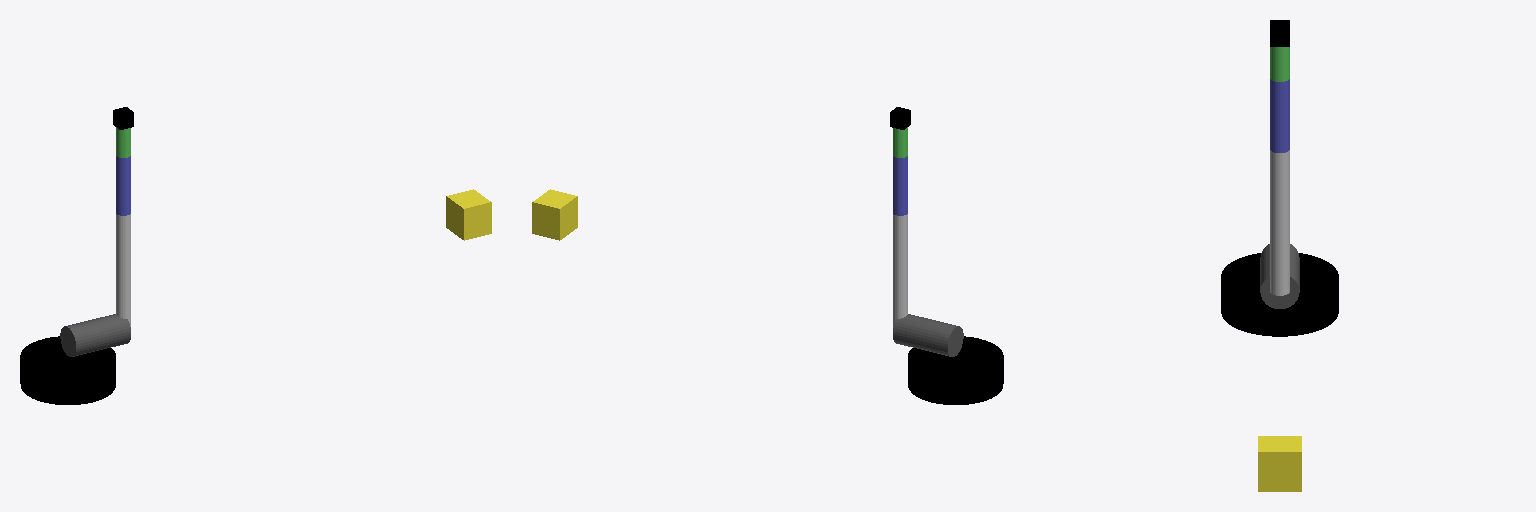
robot.urdf — bender:
<robot name="bender">

    <material name="black">
        <color rgba="0 0 0 1"/>
    </material>

    <material name="gray">
        <color rgba="0.4 0.4 0.4 1"/>
    </material>

    <material name="light gray">
        <color rgba="0.8 0.8 0.8 1"/>
    </material>

    <material name="light green">
        <color rgba="0.4 0.8 0.4 1"/>
    </material>

    <material name="light blue">
        <color rgba="0.4 0.4 0.8 1"/>
    </material>

    <material name="light red">
        <color rgba="0.8 0.4 0.4 1"/>
    </material>

    <link name="world"/>
    <link name="base">
        <visual>
            <geometry>
                <cylinder radius="0.3" length="0.2"/>
            </geometry>
            <material name="black"/>
        </visual>
    </link>

    <link name="link_1">
        <visual>
            <geometry>
                <cylinder radius="0.1" length="0.4"/>
            </geometry>
            <origin xyz="0.0 0 0.2" rpy="0 0 0" />
            <material name="gray"/>
        </visual>
    </link>

    <link name="link_2">
        <visual>
            <geometry>
                <cylinder radius="0.05" length="0.8"/>
            </geometry>
            <origin xyz="0 0 0.4" rpy="0 0 0" />
            <material name="light gray"/>
        </visual>
        <inertial>
            <origin xyz="0 0 0" rpy="0 0 0"/>
            <mass value="5"/>
            <inertia ixx="1"  ixy="0"  ixz="0" iyy="1" iyz="0" izz="0" />
        </inertial>
    </link>

    <link name="link_3"/>

    <link name="link_4">
        <visual>
            <geometry>
                <cylinder radius="0.05" length="0.4"/>
            </geometry>
            <origin xyz="0 0 0.2" rpy="0 0 0" />
            <material name="light blue"/>
        </visual>
    </link>

    <link name="link_5">
        <visual>
            <geometry>
                <cylinder radius="0.05" length="0.2"/>
            </geometry>
            <origin xyz="0 0 0.1" rpy="0 0 0" />
            <material name="light green"/>
        </visual>
    </link>

    <link name="link_6"/>

    <link name="link_eef">
        <visual>
            <geometry>
                <box size="0.1 0.1 0.1"/>
            </geometry>
            <origin xyz="0 0 0.05" rpy="0 0 0" />
            <material name="black"/>
        </visual>
        <inertial>
            <origin xyz="0 0 0" rpy="0 0 0"/>
            <mass value="0"/>
            <inertia ixx="0"  ixy="0"  ixz="0" iyy="0" iyz="0" izz="0" />
        </inertial>
    </link>

    <joint name="world_to_base" type="fixed">
        <parent link="world"/>
        <child link="base"/>
        <origin xyz="0 0 0.1" rpy="0 0 0"/>
    </joint>

    <joint name="joint_1" type="revolute">
        <parent link="base"/>
        <child link="link_1"/>
        <origin xyz="0.0 0 0.2" rpy="0 1.57 0"/>
        <limit lower="-3.15" upper="3.15"/>
        <axis xyz="1 0 0"/>
    </joint>

    <joint name="joint_2" type="revolute">
        <parent link="link_1"/>
        <child link="link_2"/>
        <origin xyz="0 0 0.4" rpy="0 -1.57 0"/>
        <limit lower="-3.15" upper="3.15"/>
        <axis xyz="0 1 0"/>
    </joint>

    <joint name="joint_3" type="revolute">
        <parent link="link_2"/>
        <child link="link_3"/>
        <origin xyz="0 0 0.8" rpy="0 0 0"/>
        <limit lower="-3.15" upper="3.15"/>
        <axis xyz="0 1 0"/>
    </joint>

    <joint name="joint_4" type="revolute">
        <parent link="link_3"/>
        <child link="link_4"/>
        <origin xyz="0 0 0" rpy="0 0 0"/>
        <limit lower="-3.15" upper="3.15"/>
        <axis xyz="0 0 1"/>
    </joint>

    <joint name="joint_5" type="revolute">
        <parent link="link_4"/>
        <child link="link_5"/>
        <origin xyz="0 0 0.4" rpy="0 0 0"/>
        <limit lower="-3.15" upper="3.15"/>
        <axis xyz="0 1 0"/>
    </joint>

    <joint name="joint_6" type="revolute">
        <parent link="link_5"/>
        <child link="link_6"/>
        <origin xyz="0 0 0" rpy="0 0 0"/>
        <limit lower="-3.15" upper="3.15"/>
        <axis xyz="0 0 1"/>
    </joint>

    <joint name="joint_eef" type="fixed">
        <parent link="link_6"/>
        <child link="link_eef"/>
        <origin xyz="0 0 0.2" rpy="0 0 0"/>
    </joint>

    <!-- MARKER -->

    <link name="marker_base"/>

    <joint name="world_to_marker_base" type="prismatic">
        <parent link="world"/>
        <child link="marker_base"/>
        <origin xyz="3 0 0.5" rpy="0 -1.5708 0" />
        <limit lower="-1" upper="1" velocity="1"/>
    </joint>

    <link name="marker">
        <visual>
            <geometry>
                <mesh filename="dynamic_tests/meshes2/files/arucocube_black.stl" scale="0.0051"/>
            </geometry>
            <origin xyz="0 0 0.1" rpy="0 0 0" />
            <material name="black"/>
        </visual>
    </link>

    <joint name="base_to_marker" type="fixed">
        <parent link="marker_base"/>
        <child link="marker"/>
        <origin xyz="0 0 0" rpy="0 0 0" />
    </joint>

    <link name="marker_background">
        <visual>
            <geometry>
                <box size="0.22 0.22 0.2"/>
            </geometry>
            <origin xyz="0 0 0.1" rpy="0 0 0" />
        </visual>
    </link>

    <joint name="marker_to_bg" type="fixed">
        <parent link="marker"/>
        <child link="marker_background"/>
    </joint>

</robot>

--- Render facts (derived) ---
3 views of the same robot in one strip: view 1: azimuth 30°, elevation 25°; view 2: azimuth 150°, elevation 25°; view 3: azimuth 270°, elevation 25° (orthographic).
Robot: bender — 12 links, 11 joints (6 revolute, 1 prismatic, 4 fixed); root link world; default pose: every joint at zero.
Links seen in each view (by area): view 1: base, link_1, marker_background, link_2, link_4; view 2: base, link_1, marker_background, link_2, link_4; view 3: base, link_2, marker_background, link_4, link_1, link_5, link_eef.
Link boxes in pixels (box(x1,y1,x2,y2)): base: box(20, 336, 115, 404); link_1: box(60, 314, 130, 356); marker_background: box(446, 189, 491, 240); link_2: box(116, 214, 130, 326); link_4: box(116, 156, 130, 215); base: box(908, 336, 1003, 404); link_1: box(893, 314, 963, 356); marker_background: box(532, 189, 577, 240); link_2: box(893, 214, 907, 326); link_4: box(893, 156, 907, 215); base: box(1221, 253, 1338, 336); link_2: box(1270, 150, 1289, 295); marker_background: box(1258, 436, 1301, 491); link_4: box(1270, 79, 1289, 152); link_1: box(1260, 244, 1299, 308); link_5: box(1270, 47, 1289, 81); link_eef: box(1270, 20, 1289, 46).
Bounding box of the posed robot: 3.3 × 0.6 × 1.8 m (x, y, z).
Meshes: 1 distinct files referenced, 0 mesh visuals loaded (none loaded); not drawn: 1 (reference not matched to a file when rendering).
